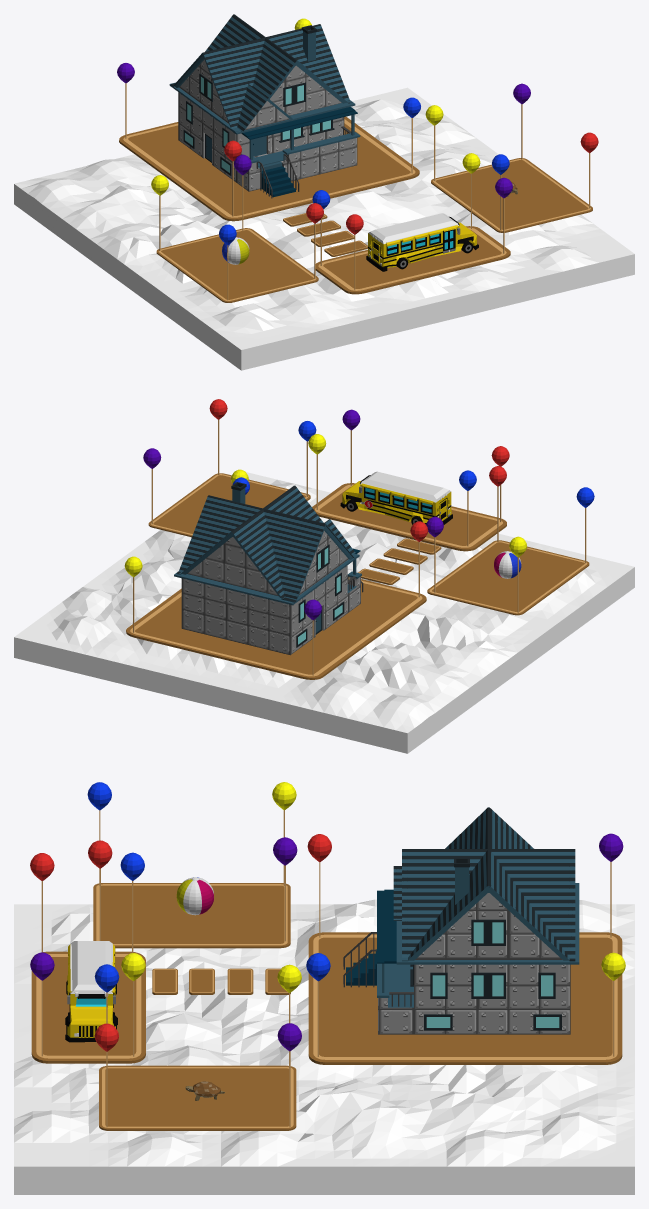
3 views of the same model, one above another, from view 1: azimuth 30°, elevation 25°; view 2: azimuth 150°, elevation 25°; view 3: azimuth 270°, elevation 25° (orthographic). The views are drawn at different scales.
Visible parts, largest first — view 1: Cube.013, Cube.078, VEHICLES_SCHOOL_BUS, OBJRANDOM_BEACHBALL; view 2: Cube.013, Cube.078, VEHICLES_SCHOOL_BUS, OBJRANDOM_BEACHBALL; view 3: Cube.013, Cube.078, VEHICLES_SCHOOL_BUS, OBJRANDOM_BEACHBALL.
Boxes of the visible parts, box(x1,y1,x2,y2) form: Cube.013: box(14, 18, 634, 370); Cube.078: box(169, 14, 360, 198); VEHICLES_SCHOOL_BUS: box(366, 213, 478, 271); OBJRANDOM_BEACHBALL: box(222, 237, 249, 264); Cube.013: box(14, 399, 634, 753); Cube.078: box(174, 482, 363, 655); VEHICLES_SCHOOL_BUS: box(340, 471, 452, 524); OBJRANDOM_BEACHBALL: box(494, 551, 521, 578); Cube.013: box(14, 782, 634, 1194); Cube.078: box(343, 807, 579, 1034); VEHICLES_SCHOOL_BUS: box(65, 941, 117, 1042); OBJRANDOM_BEACHBALL: box(176, 877, 213, 915).
Bounding box in the file's own units: 4000 × 1638 × 4000.
Materials: 37 (4 with a texture image).
